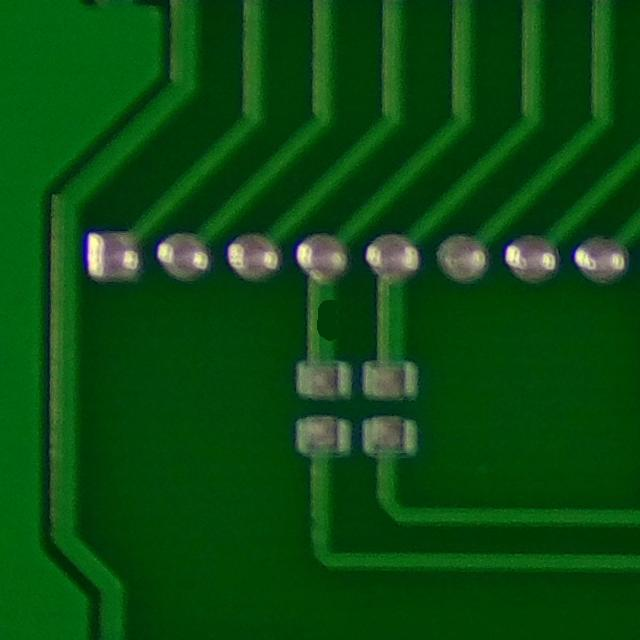mouse_bite: (289, 286, 351, 355)
